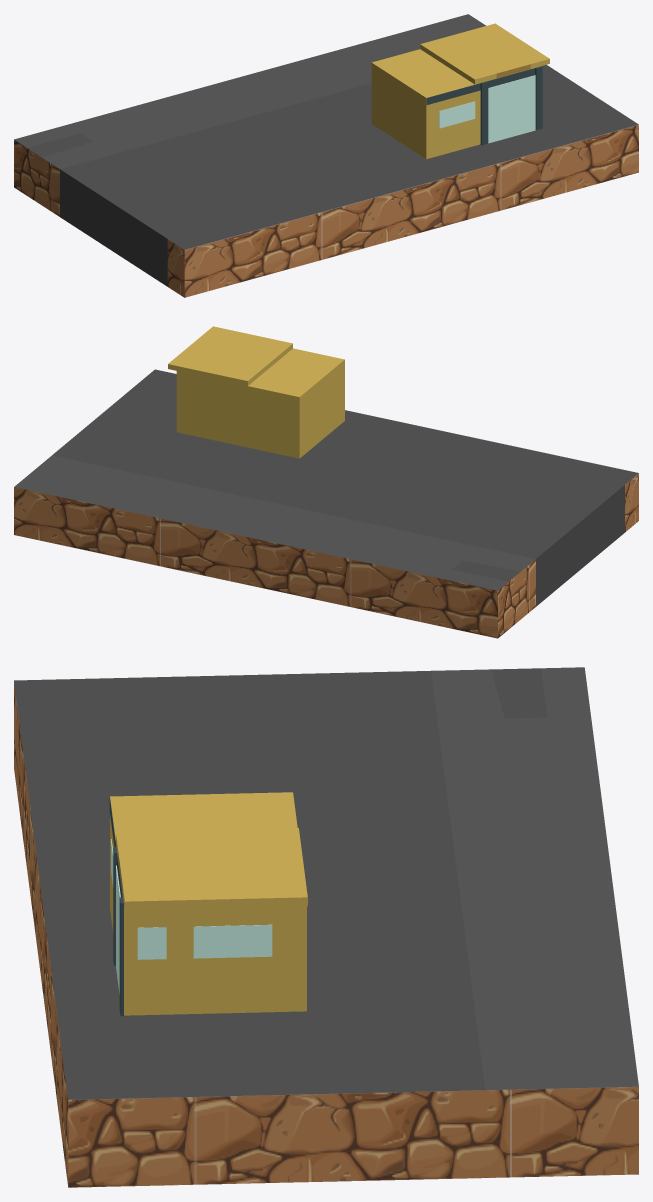
File: Starting Point.glb
The picture shows the model from 3 angles, top to bottom: view 1: azimuth 30°, elevation 25°; view 2: azimuth 150°, elevation 25°; view 3: azimuth 270°, elevation 25°; orthographic projection. The views are drawn at different scales.
Parts seen in each view (by area): view 1: polySurface1090, polySurface698; view 2: polySurface1090, polySurface698; view 3: polySurface1090, polySurface698.
Part boxes in pixels (x1,y1,x2,y2): polySurface1090: [14, 14, 638, 297]; polySurface698: [371, 23, 549, 159]; polySurface1090: [14, 369, 638, 638]; polySurface698: [168, 326, 344, 458]; polySurface1090: [14, 667, 638, 1187]; polySurface698: [109, 792, 307, 1016].
Size of the model in its own units: 76.85 by 18.25 by 46.93.
Materials: 7 (1 with a texture image).
